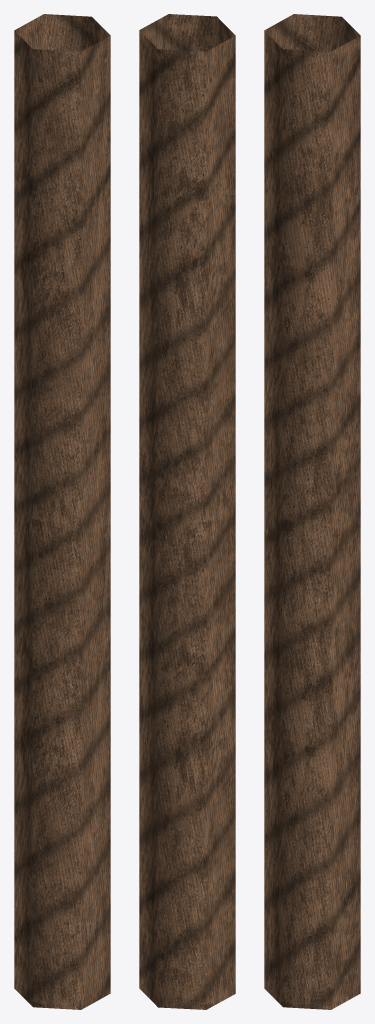
File: rope.fbx
3 renders of one model, left to right at view 1: azimuth 90°, elevation 25°; view 2: azimuth 150°, elevation 25°; view 3: azimuth 270°, elevation 25°, orthographic.
Parts seen in each view (by area): view 1: ropeGeo.001; view 2: ropeGeo.001; view 3: ropeGeo.001.
Boxes of the visible parts, box(x1,y1,x2,y2) form: ropeGeo.001: box(14, 14, 110, 1009); ropeGeo.001: box(139, 14, 235, 1009); ropeGeo.001: box(264, 14, 360, 1009).
Size of the model in its own units: 4.25 by 50 by 4.56.
